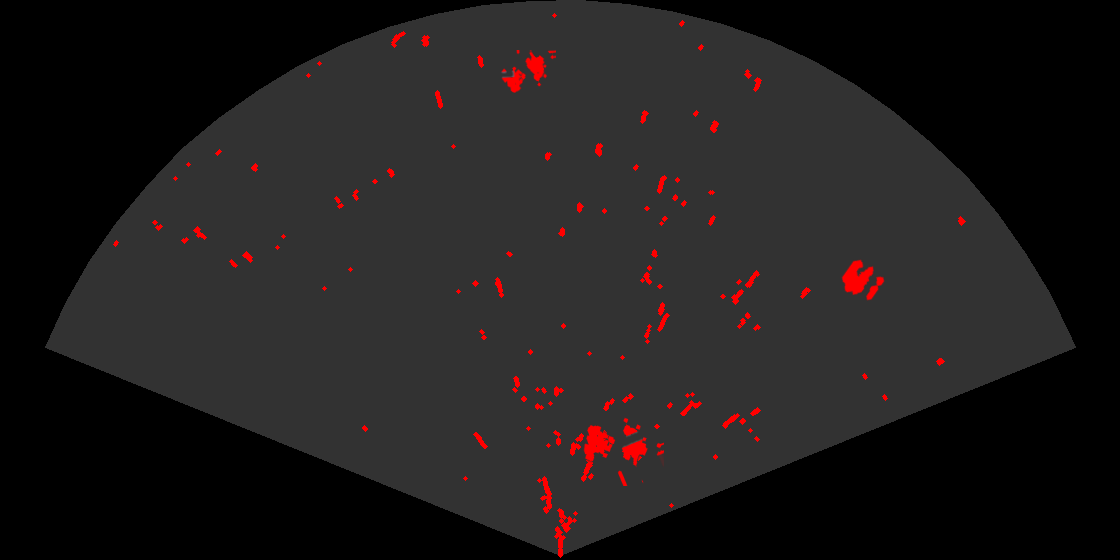ball: (840, 258, 886, 302)
cage: (582, 416, 664, 486), (500, 50, 556, 94)
